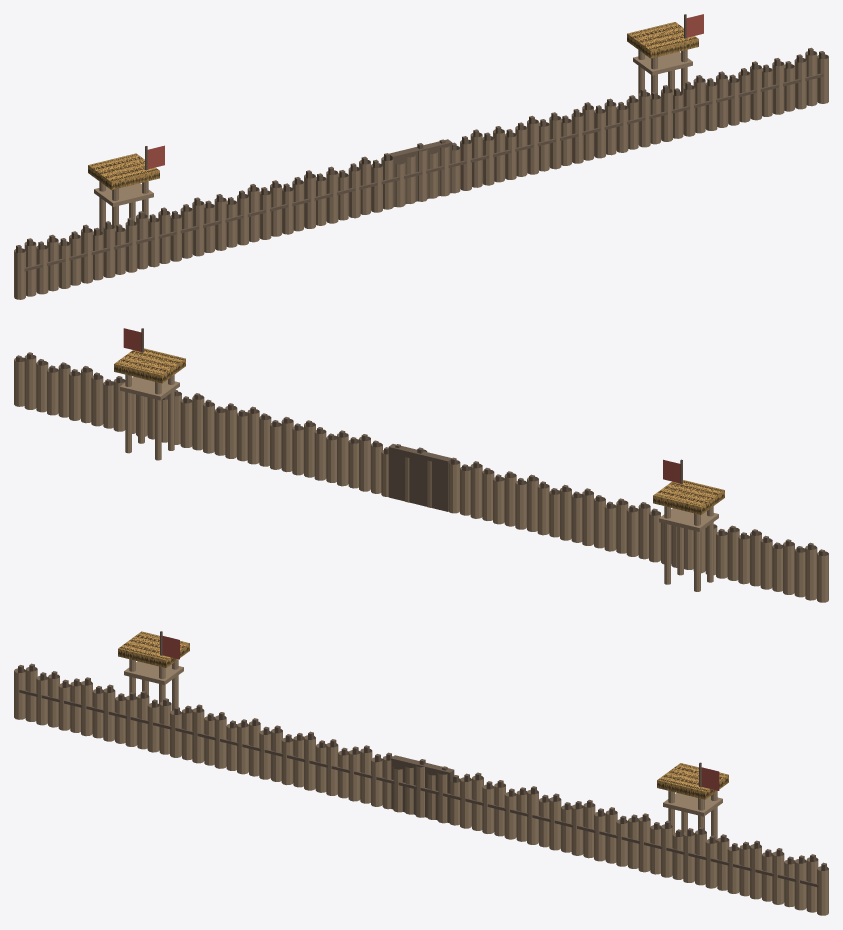
Rendered from st_fort.glb.
The picture shows the model from 3 angles, top to bottom: view 1: azimuth 30°, elevation 25°; view 2: azimuth 150°, elevation 25°; view 3: azimuth 330°, elevation 25°; orthographic projection.
Parts seen in each view (by area): view 1: log, dark, thatch, red; view 2: log, dark, thatch, red; view 3: log, dark, thatch, red.
Part boxes in pixels (x1=…): log: x1=14, y1=49, x2=828, y2=299; dark: x1=16, y1=14, x2=824, y2=271; thatch: x1=88, y1=22, x2=698, y2=189; red: x1=147, y1=14, x2=703, y2=169; log: x1=14, y1=355, x2=828, y2=602; dark: x1=16, y1=328, x2=824, y2=555; thatch: x1=114, y1=348, x2=724, y2=514; red: x1=123, y1=328, x2=680, y2=483; log: x1=14, y1=659, x2=828, y2=915; dark: x1=18, y1=631, x2=826, y2=887; thatch: x1=118, y1=631, x2=728, y2=799; red: x1=162, y1=636, x2=719, y2=790.
Size of the model in its own units: 438 by 58.01 by 27.65.
4 materials, 1 textured.
